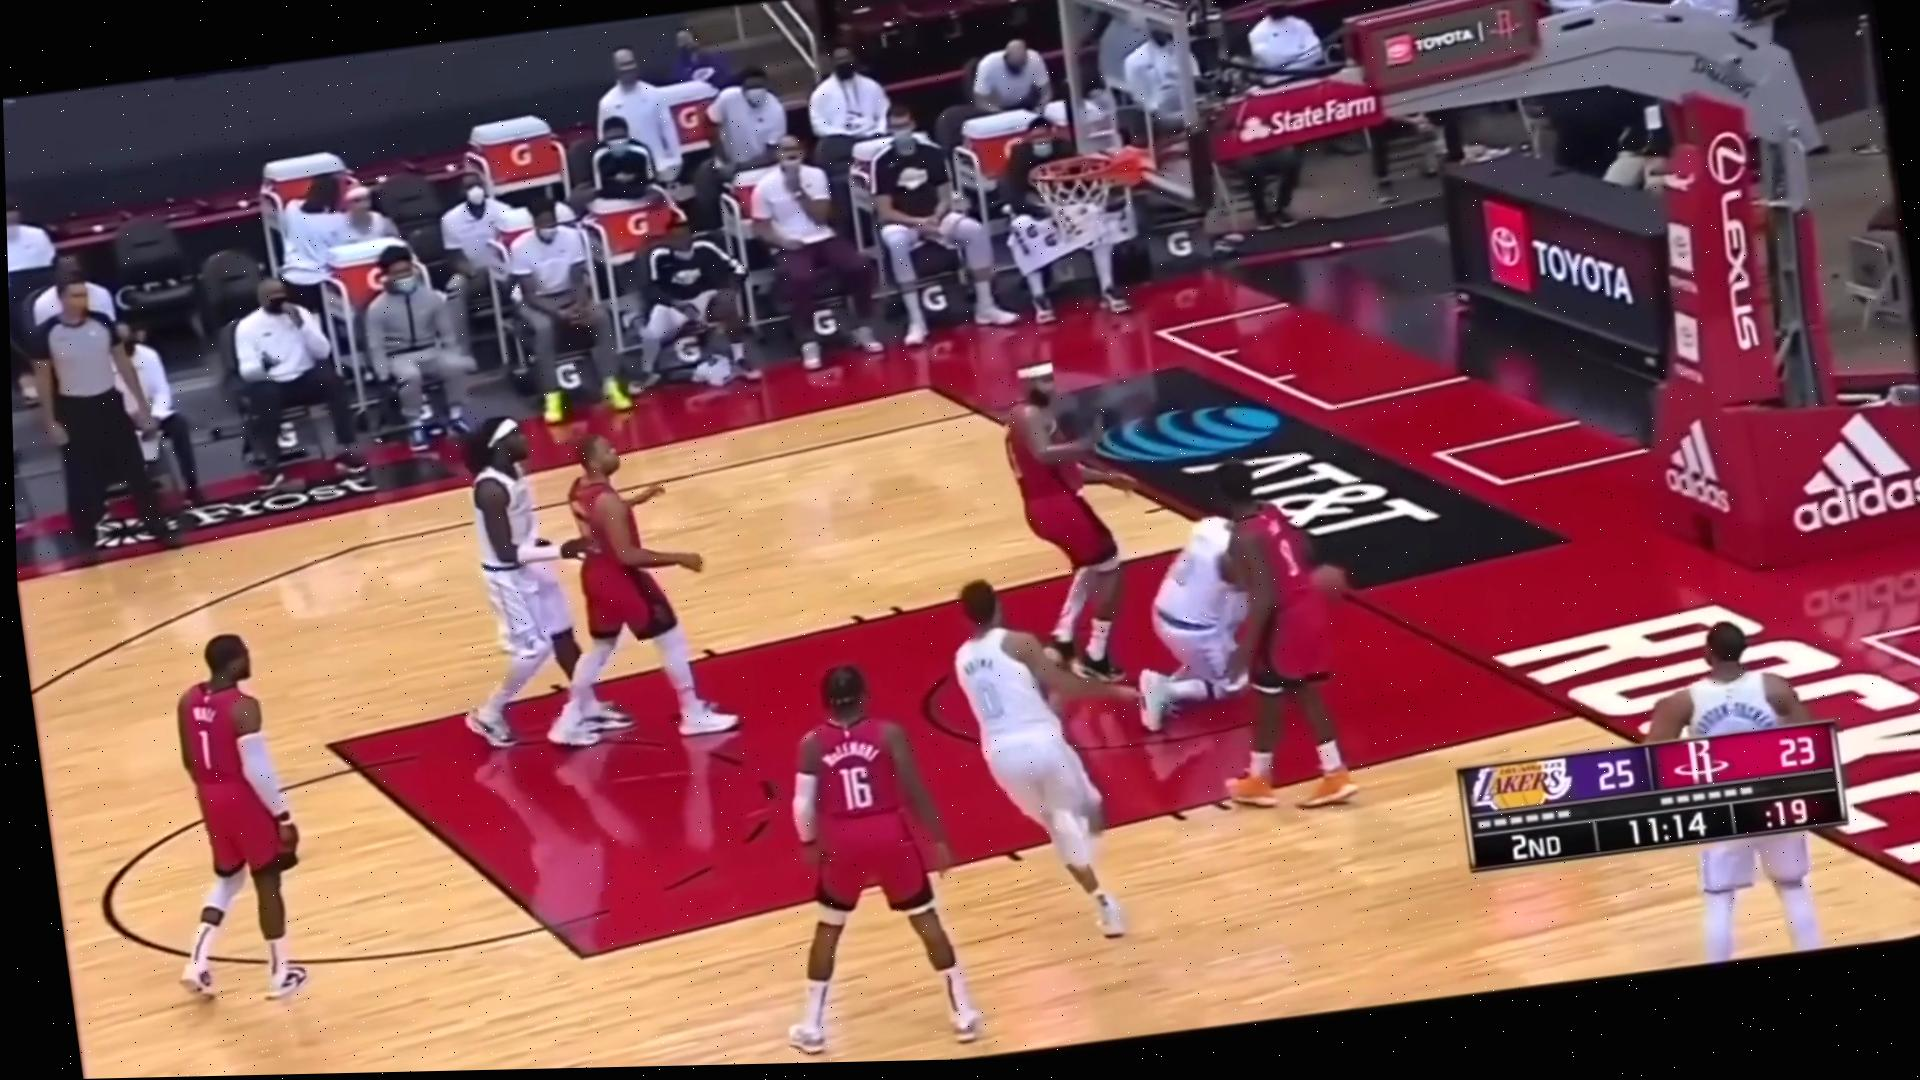foul: (963, 332, 1288, 735)
